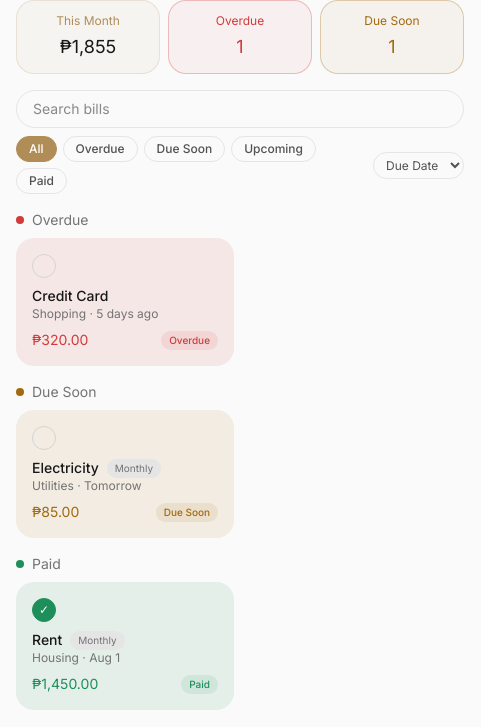
Test: BillsListView › shows an empty state when no bills match the filters
The image size is (481, 727).
Type "nonexistent" into the field with test id "bills-search-input" at point(240, 109), box top-left (16, 90), bottom-right (464, 128)
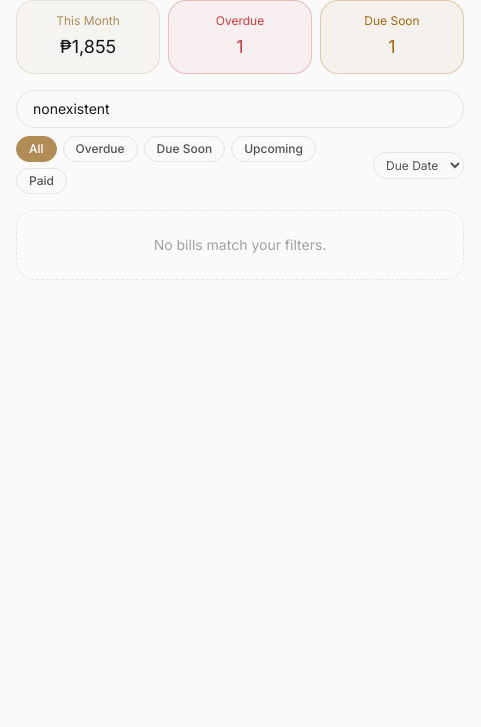
Result: the text with test id "empty-state" reads "No bills match your filters." at top-left (154, 236), bottom-right (326, 253)
